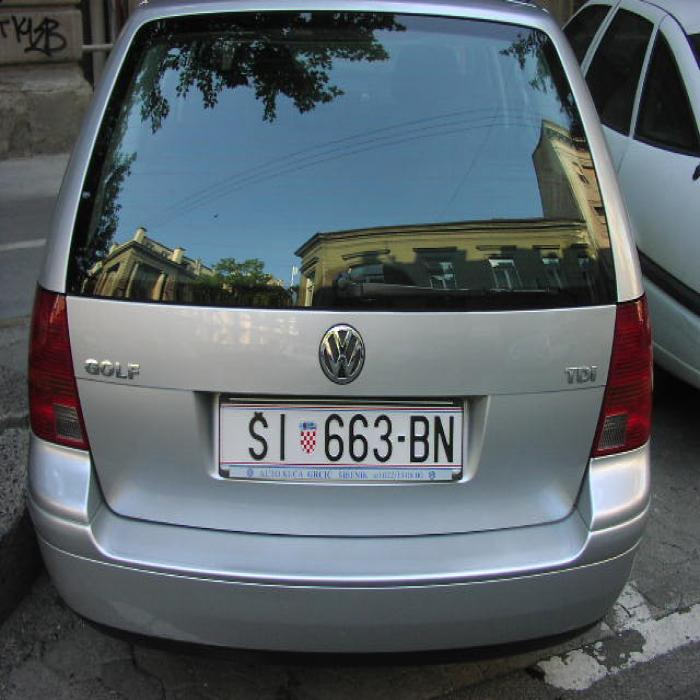number_plate: (219, 404, 459, 472)
